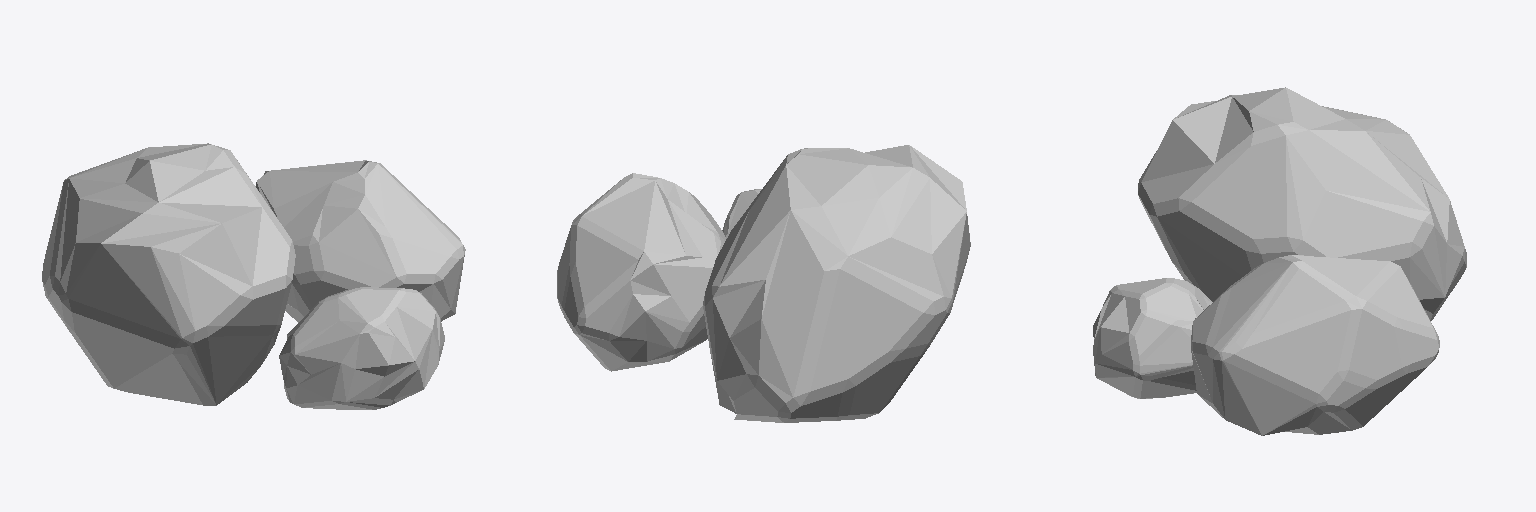
File: rock.obj
3 views of the same model, side by side, from view 1: azimuth 30°, elevation 25°; view 2: azimuth 150°, elevation 25°; view 3: azimuth 270°, elevation 25° (orthographic).
Visible parts, largest first — view 1: rock.001, rock.002, rock.003; view 2: rock.001, rock.002, rock.003; view 3: rock.001, rock.002, rock.003.
Part boxes in pixels (bbox=[...]): rock.001: bbox=[42, 143, 295, 405]; rock.002: bbox=[256, 160, 465, 322]; rock.003: bbox=[279, 287, 444, 409]; rock.001: bbox=[703, 145, 970, 422]; rock.002: bbox=[557, 173, 725, 371]; rock.003: bbox=[722, 189, 761, 238]; rock.001: bbox=[1138, 87, 1466, 320]; rock.002: bbox=[1191, 255, 1439, 435]; rock.003: bbox=[1093, 278, 1212, 398].
Size of the model in its own units: 347 by 209 by 299.